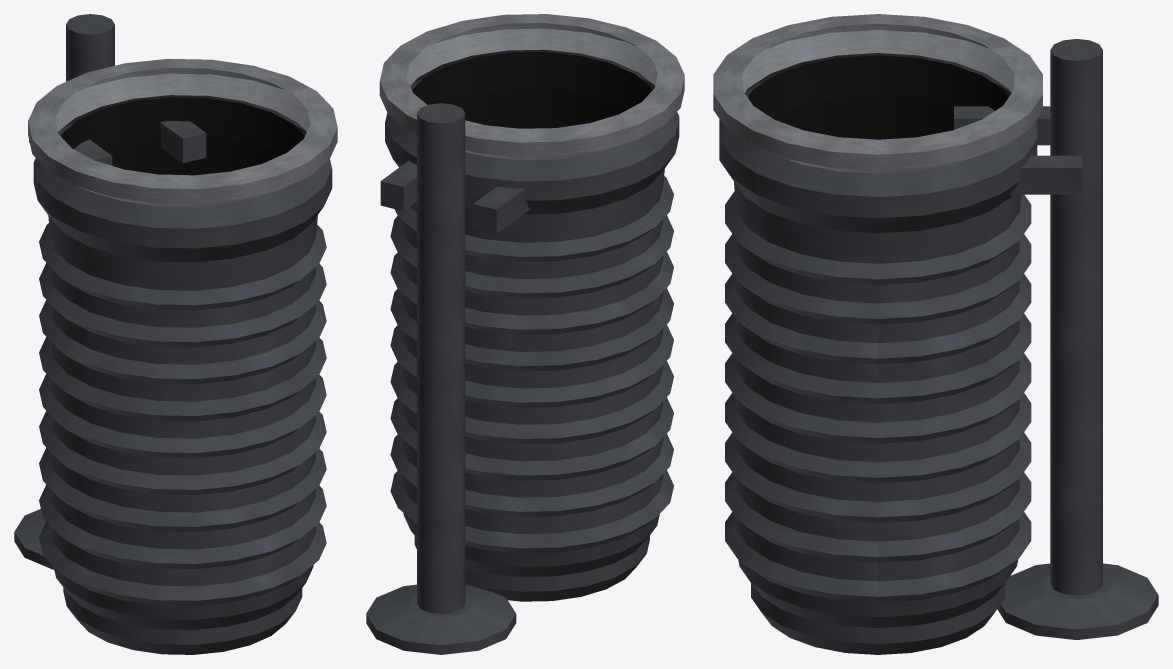
Rendered from trash_bin.obj.
The picture shows the model from 3 angles, left to right: view 1: azimuth 30°, elevation 25°; view 2: azimuth 150°, elevation 25°; view 3: azimuth 270°, elevation 25°; orthographic projection. The views are drawn at different scales.
Visible parts, largest first — view 1: trash_bin; view 2: trash_bin; view 3: trash_bin.
Part boxes in pixels (x1,y1,x2,y2): trash_bin: [14, 14, 337, 654]; trash_bin: [366, 14, 684, 654]; trash_bin: [713, 14, 1158, 654].
Bounding box in the file's own units: 0.57 × 1.05 × 0.7621.
